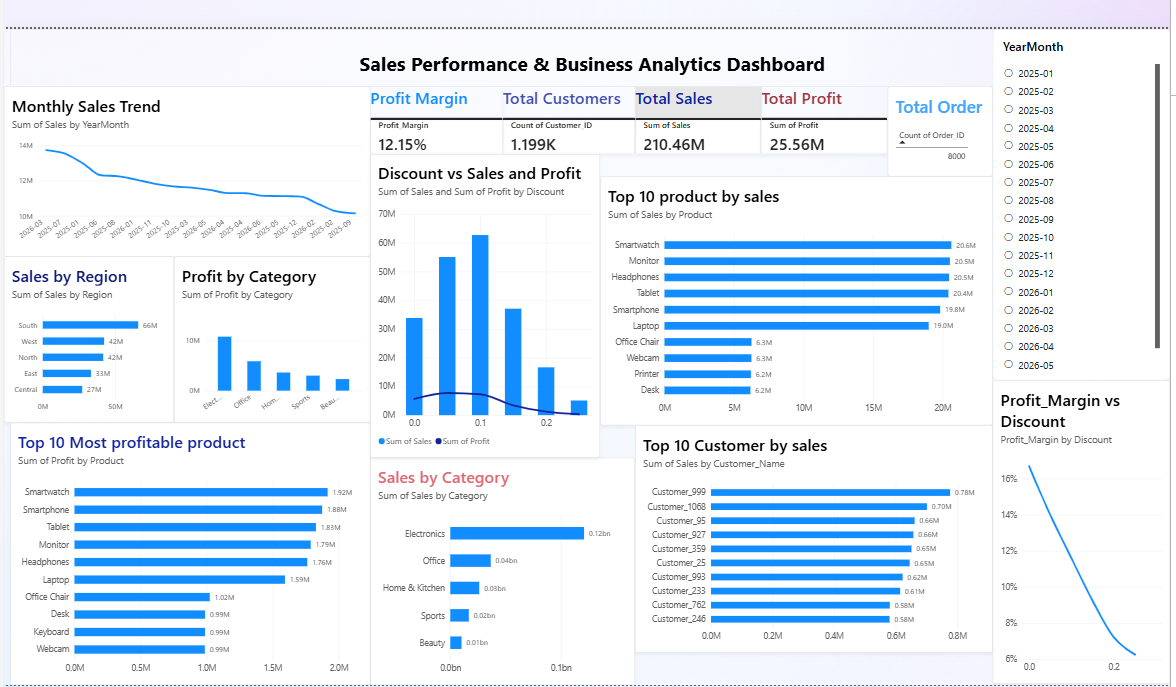

What the dashboard file says about the page in this screenshot:
{"tool":"powerbi","page":{"name":"Dashboard ","canvas":[1920,1080],"ordinal":0},"visuals":[{"type":"cardVisual","title":"Total Sales","fields":{"Data":["Sum(Sheet1.Sales)"]},"box":[1039.5,94.7,207.9,111.1],"z":0},{"type":"cardVisual","title":"Total Profit","fields":{"Data":["Sum(Sheet1.Profit)"]},"box":[1247.3,94.7,207.9,111.1],"z":1000},{"type":"tableEx","title":"Total Order","fields":{"Values":["Sheet1.Order_ID"]},"box":[1455.2,94.7,172.9,148.2],"z":2000},{"type":"cardVisual","title":"Total Customers","fields":{"Data":["Count(Sheet1.Customer_ID)"]},"box":[821.3,94.7,218.2,111.1],"z":3000},{"type":"cardVisual","title":"Profit Margin","fields":{"Data":["Sheet1.Profit_Margin"]},"box":[603.1,94.7,218.2,111.1],"z":4000},{"type":"lineChart","title":"Monthly Sales Trend","fields":{"Category":["Sheet1.YearMonth"],"Y":["Sum(Sheet1.Sales)"]},"box":[0,94.7,603.1,279.9],"z":5000},{"type":"clusteredBarChart","title":"Sales by Category","fields":{"Category":["Sheet1.Category"],"Y":["Sum(Sheet1.Sales)"]},"box":[603.1,706,436.4,374.6],"z":6000},{"type":"clusteredBarChart","title":"Sales by Region","fields":{"Category":["Sheet1.Region"],"Y":["Sum(Sheet1.Sales)"]},"box":[0,374.6,279.9,273.8],"z":7000},{"type":"clusteredColumnChart","title":"Profit by Category","fields":{"Category":["Sheet1.Category"],"Y":["Sum(Sheet1.Profit)"]},"box":[279.9,374.6,323.2,273.8],"z":8000},{"type":"clusteredBarChart","title":"Top 10 product by sales","fields":{"Category":["Sheet1.Product"],"Y":["Sum(Sheet1.Sales)"]},"box":[981.8,242.9,646.3,409.6],"z":9000},{"type":"clusteredBarChart","title":"Top 10 Customer by sales","fields":{"Category":["Sheet1.Customer_Name"],"Y":["Sum(Sheet1.Sales)"]},"box":[1039.5,652.5,588.7,374.6],"z":10000},{"type":"clusteredBarChart","title":"Top 10 Most profitable product","fields":{"Category":["Sheet1.Product"],"Y":["Sum(Sheet1.Profit)"]},"box":[10.3,648.4,592.8,432.2],"z":11000},{"type":"lineClusteredColumnComboChart","title":"Discount vs Sales and Profit","fields":{"Category":["Sheet1.Discount"],"Y":["Sum(Sheet1.Sales)"],"Y2":["Sum(Sheet1.Profit)"]},"box":[603.1,205.8,378.7,500.2],"z":12000},{"type":"lineChart","title":"Profit_Margin vs Discount","fields":{"Category":["Sheet1.Discount"],"Y":["Sheet1.Profit_Margin"]},"box":[1628.1,578.4,292.3,500.2],"z":13000},{"type":"textbox","box":[10.3,0,1910.1,94.7],"z":14000},{"type":"listSlicer","fields":{"Values":["Sheet1.YearMonth"]},"box":[1628.1,0,292.3,578.4],"z":15000}]}

Visuals, with their boxes on the page's 1920x1080 design canvas (x1, y1, x2, y2). These are canvas units, not pixel positions in the 1176x687 screenshot, which may show the page scaled, cropped or inside an application window:
"Total Sales" cardVisual: <box>1040,95,1247,206</box>
"Total Profit" cardVisual: <box>1247,95,1455,206</box>
"Total Order" tableEx: <box>1455,95,1628,243</box>
"Total Customers" cardVisual: <box>821,95,1040,206</box>
"Profit Margin" cardVisual: <box>603,95,821,206</box>
"Monthly Sales Trend" lineChart: <box>0,95,603,375</box>
"Sales by Category" clusteredBarChart: <box>603,706,1040,1081</box>
"Sales by Region" clusteredBarChart: <box>0,375,280,648</box>
"Profit by Category" clusteredColumnChart: <box>280,375,603,648</box>
"Top 10 product by sales" clusteredBarChart: <box>982,243,1628,652</box>
"Top 10 Customer by sales" clusteredBarChart: <box>1040,652,1628,1027</box>
"Top 10 Most profitable product" clusteredBarChart: <box>10,648,603,1081</box>
"Discount vs Sales and Profit" lineClusteredColumnComboChart: <box>603,206,982,706</box>
"Profit_Margin vs Discount" lineChart: <box>1628,578,1920,1079</box>
textbox: <box>10,0,1920,95</box>
listSlicer - Sheet1.YearMonth: <box>1628,0,1920,578</box>
